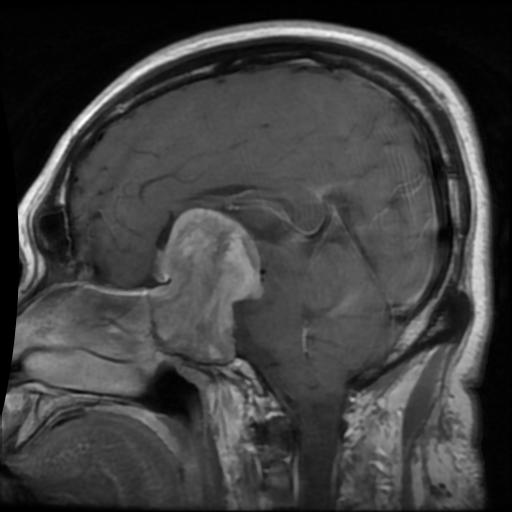Pituirity_tumour: (149, 209, 264, 359)
